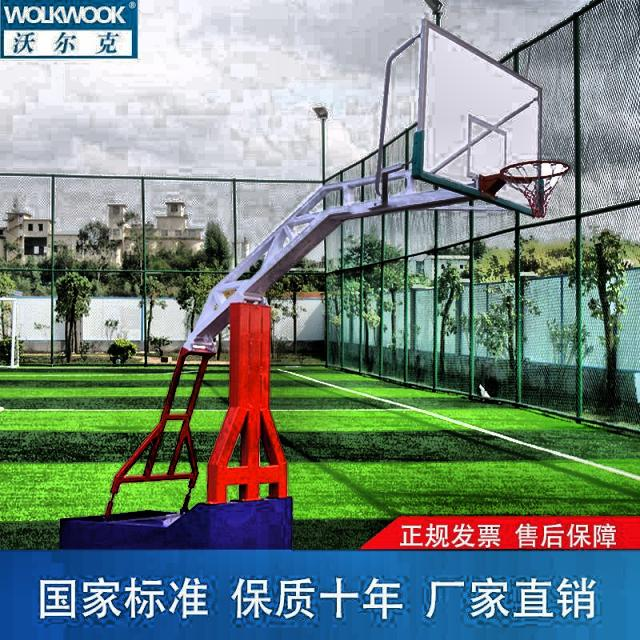rim: (501, 160, 569, 217)
